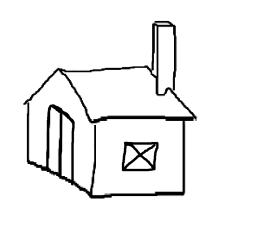chimney: (143, 7, 187, 105)
closed_window: (120, 135, 162, 177)
door: (41, 102, 78, 190)
roof: (20, 61, 204, 130)
wall: (91, 116, 193, 209)
